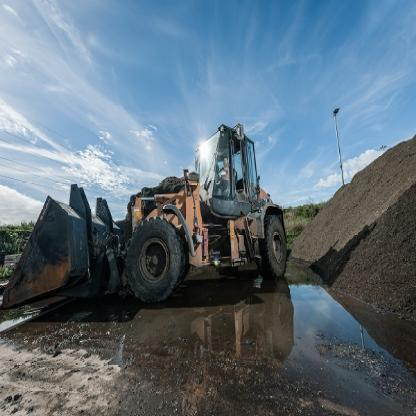bull_dozer/loader/grader: (11, 113, 298, 306)
